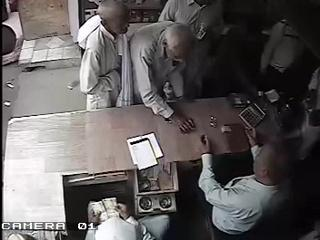Normal: (198, 132, 294, 240), (129, 21, 197, 133), (238, 102, 266, 130)
shoplifting: (77, 1, 133, 110)
